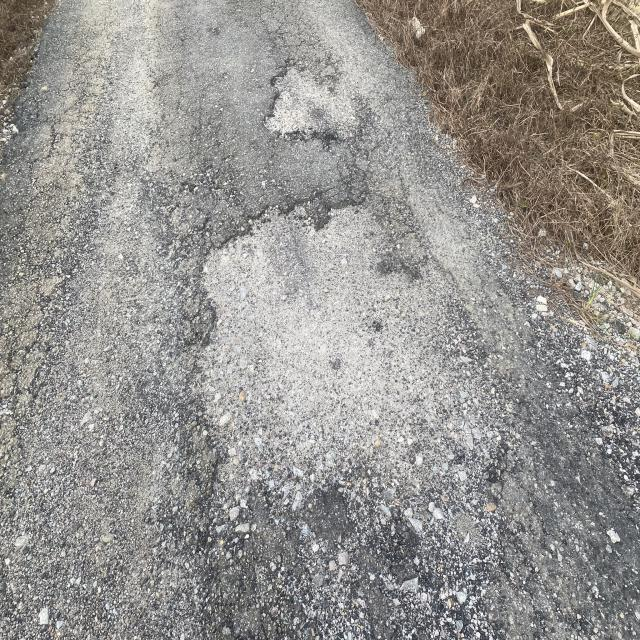pothole: (193, 146, 449, 566)
